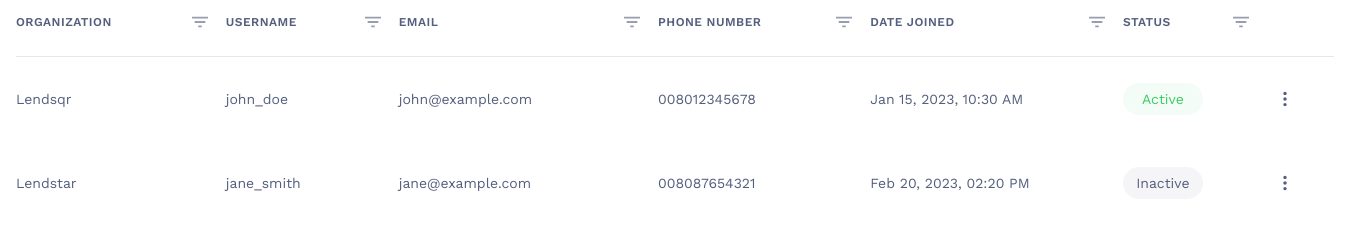
Test case: UsersTable Component › Action Menu › shows action menu when action button is clicked
Click the button named "More actions" in the row of "Lendsqr" at (1285, 99), box [1267, 81, 1303, 117]
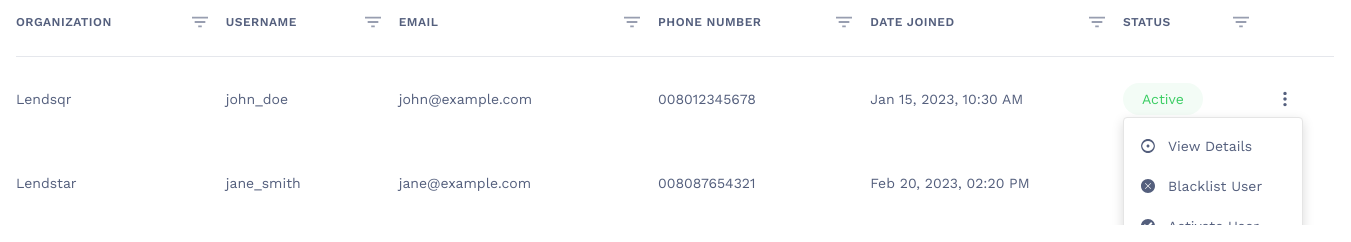
Result: the button "View Details" is shown at [1124, 126, 1302, 166]
Result: the button "Blacklist User" is shown at [1124, 166, 1302, 206]
